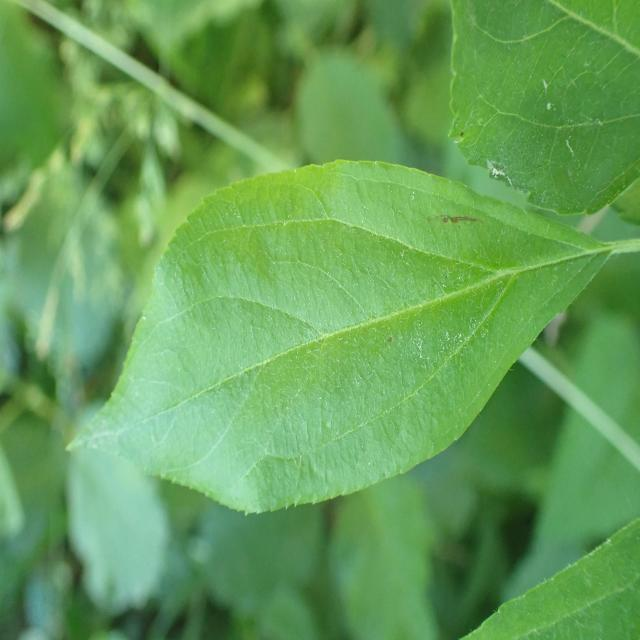healthy: (65, 158, 610, 518), (448, 0, 640, 217)
